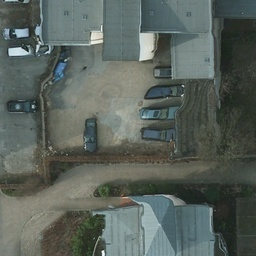car: (141, 127, 174, 143), (139, 105, 175, 118), (1, 26, 29, 41), (6, 99, 37, 112), (0, 0, 33, 4)
pickup: (82, 117, 97, 151)
